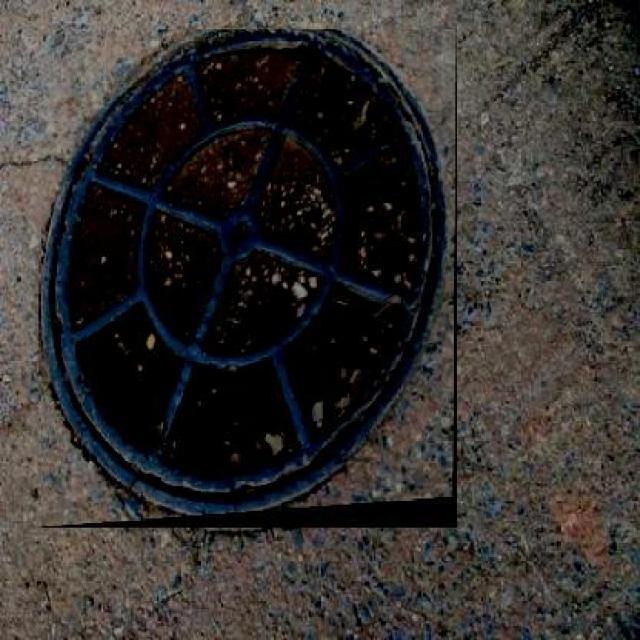Manhole: (39, 29, 458, 528)
